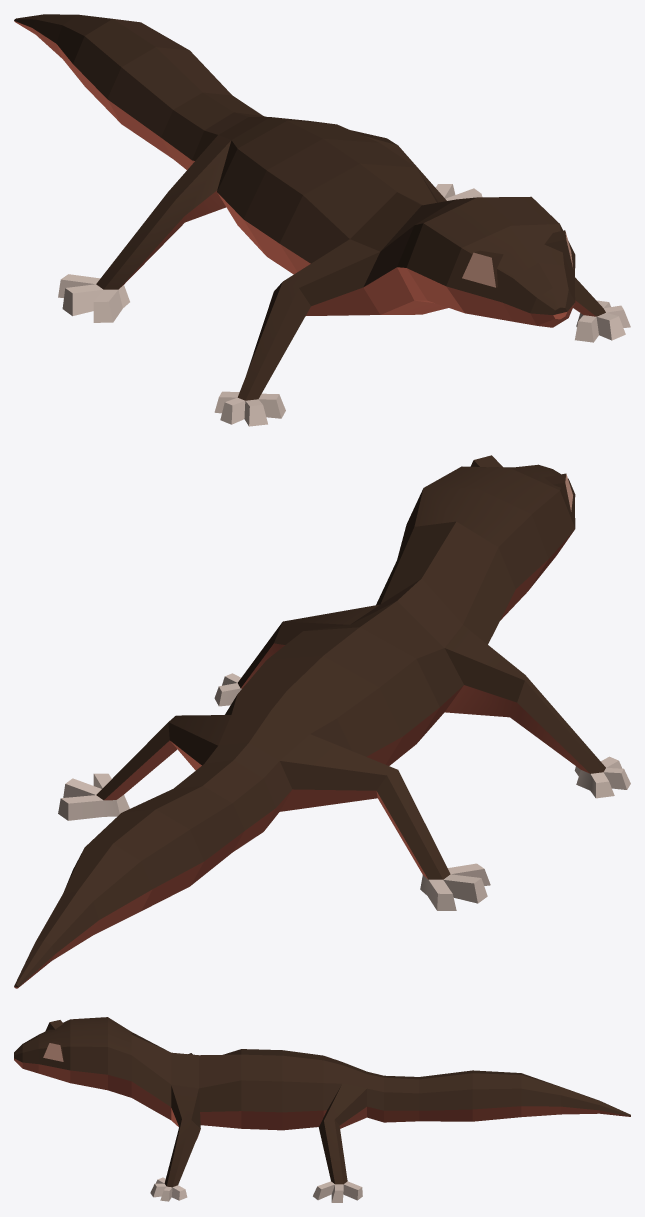
File: newt.glb
The picture shows the model from 3 angles, top to bottom: view 1: azimuth 30°, elevation 25°; view 2: azimuth 150°, elevation 25°; view 3: azimuth 270°, elevation 25°; orthographic projection. The views are drawn at different scales.
Parts seen in each view (by area): view 1: Geo_Gecko; view 2: Geo_Gecko; view 3: Geo_Gecko.
Boxes of the visible parts, left/top/right/bottom form: Geo_Gecko: left=14, top=14, right=630, bottom=426; Geo_Gecko: left=14, top=455, right=630, bottom=988; Geo_Gecko: left=14, top=1017, right=630, bottom=1202.
Bounding box in the file's own units: 9.1 × 4.45 × 20.64.
Materials: 1 (1 with a texture image).
